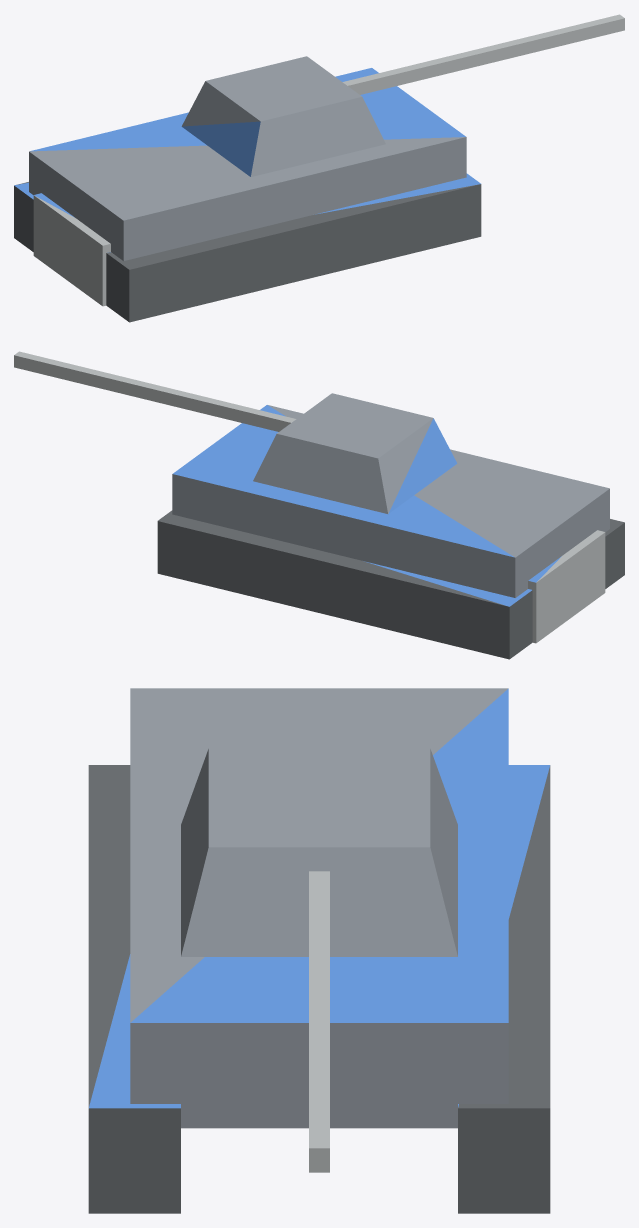
The model's file is veyran_siege_artillery.glb.
The picture shows the model from 3 angles, top to bottom: view 1: azimuth 30°, elevation 25°; view 2: azimuth 150°, elevation 25°; view 3: azimuth 270°, elevation 25°; orthographic projection. The views are drawn at different scales.
Parts seen in each view (by area): view 1: hull, turret, spade, barrel; view 2: hull, turret, spade, barrel; view 3: hull, turret, barrel.
Boxes of the visible parts, left/top/right/bottom form: hull: left=14, top=68, right=481, bottom=322; turret: left=181, top=56, right=385, bottom=176; spade: left=33, top=193, right=110, bottom=306; barrel: left=342, top=14, right=624, bottom=94; hull: left=157, top=405, right=624, bottom=659; turret: left=253, top=393, right=457, bottom=513; spade: left=528, top=530, right=605, bottom=643; barrel: left=14, top=351, right=296, bottom=431; hull: left=88, top=688, right=550, bottom=1213; turret: left=181, top=748, right=457, bottom=956; barrel: left=309, top=871, right=329, bottom=1172.
Size of the model in its own units: 8.6 by 2.07 by 3.1.
